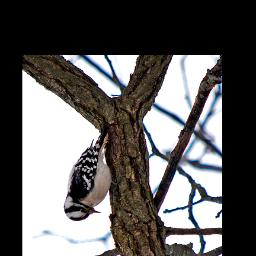Woodpecker: (63, 125, 124, 221)
